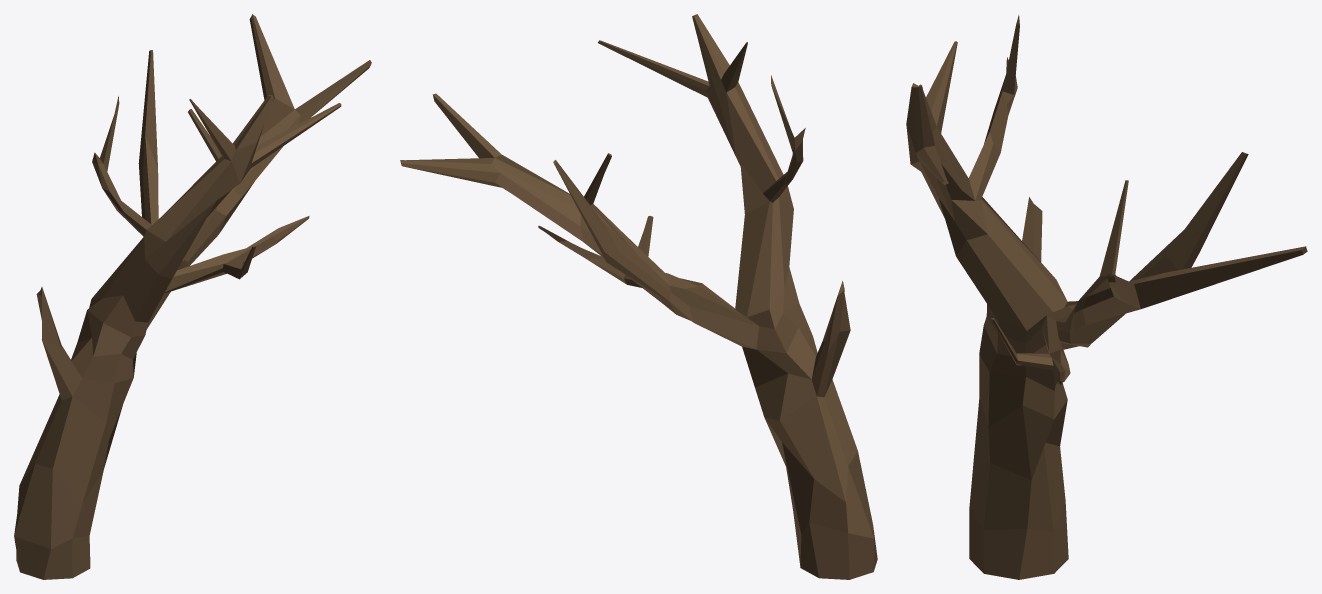
Rendered from Tree06.fbx.
3 views of the same model, side by side, from view 1: azimuth 30°, elevation 25°; view 2: azimuth 150°, elevation 25°; view 3: azimuth 270°, elevation 25° (orthographic). The views are drawn at different scales.
Visible parts, largest first — view 1: Trunk; view 2: Trunk; view 3: Trunk.
Boxes of the visible parts, <box> form: Trunk: <box>14,14,371,579</box>; Trunk: <box>400,14,877,579</box>; Trunk: <box>906,15,1307,579</box>.
Bounding box in the file's own units: 879 × 982 × 606.
